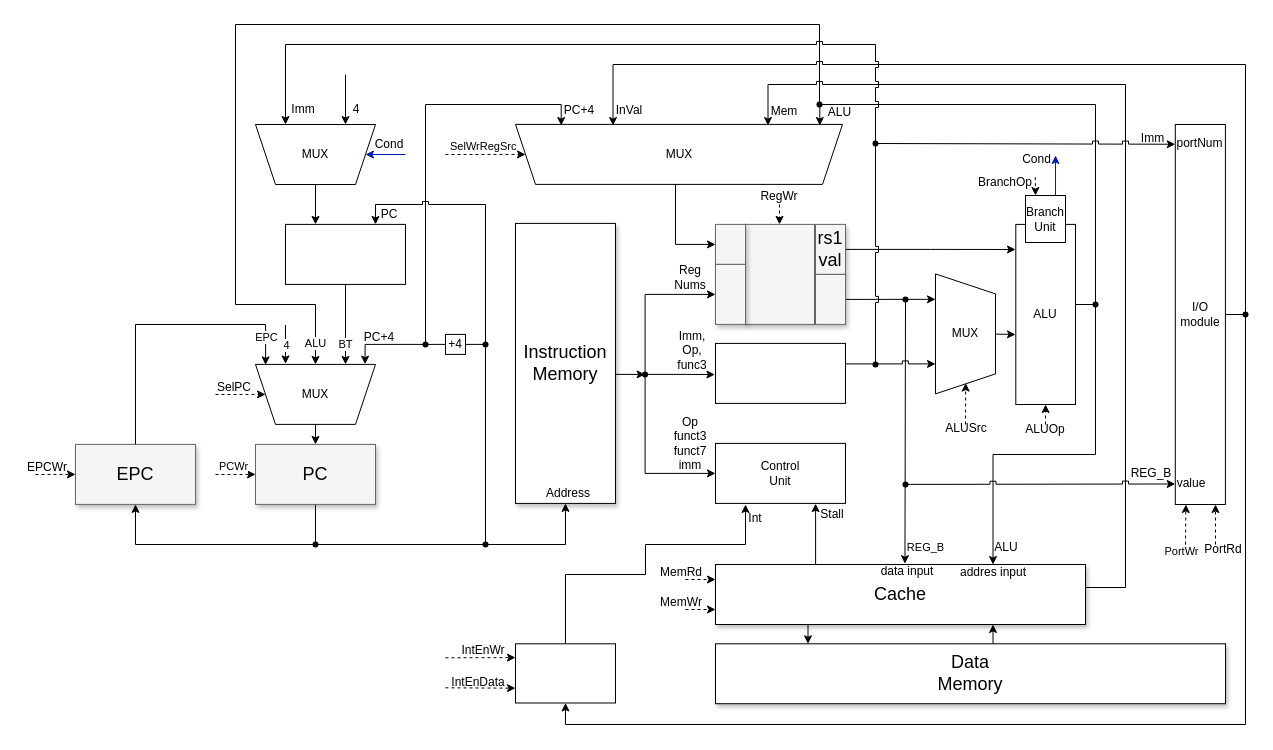
This 1273x750 diagram has some shape labels left out. Each missing label, with the centre of its shape:
Imm_Generator: the point at 780,372
rd val: the point at 731,245
Register file: the point at 780,275
rs1 rs2 rd: the point at 731,295
rs2 val: the point at 831,300
SUM: the point at 345,253
Trap Controller: the point at 565,673
